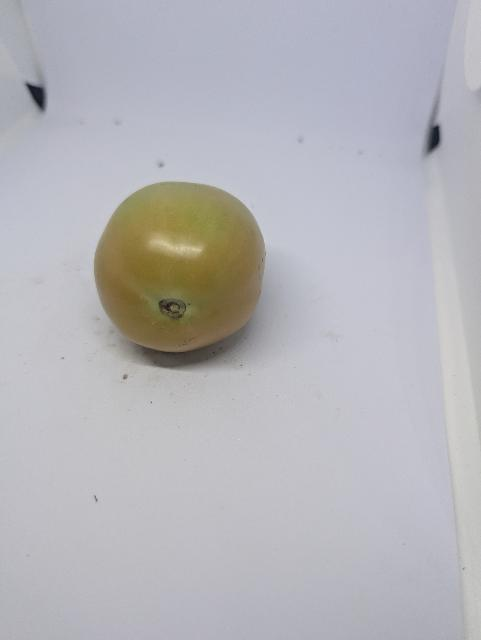breaker: (91, 178, 271, 361)
